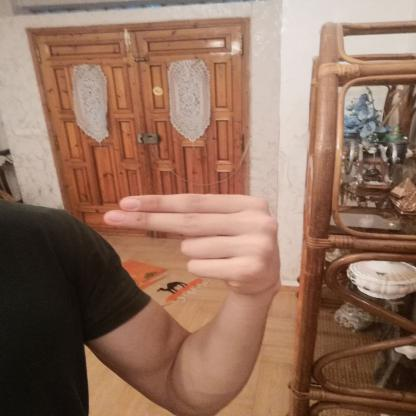AYN: (86, 179, 300, 307)
